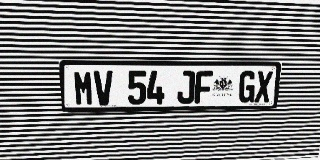4: (147, 71, 165, 104)
5: (128, 71, 146, 105)
F: (194, 71, 213, 104)
G: (238, 71, 257, 103)
J: (177, 71, 195, 104)
M: (73, 71, 94, 106)
V: (93, 71, 113, 105)
X: (254, 71, 273, 103)
